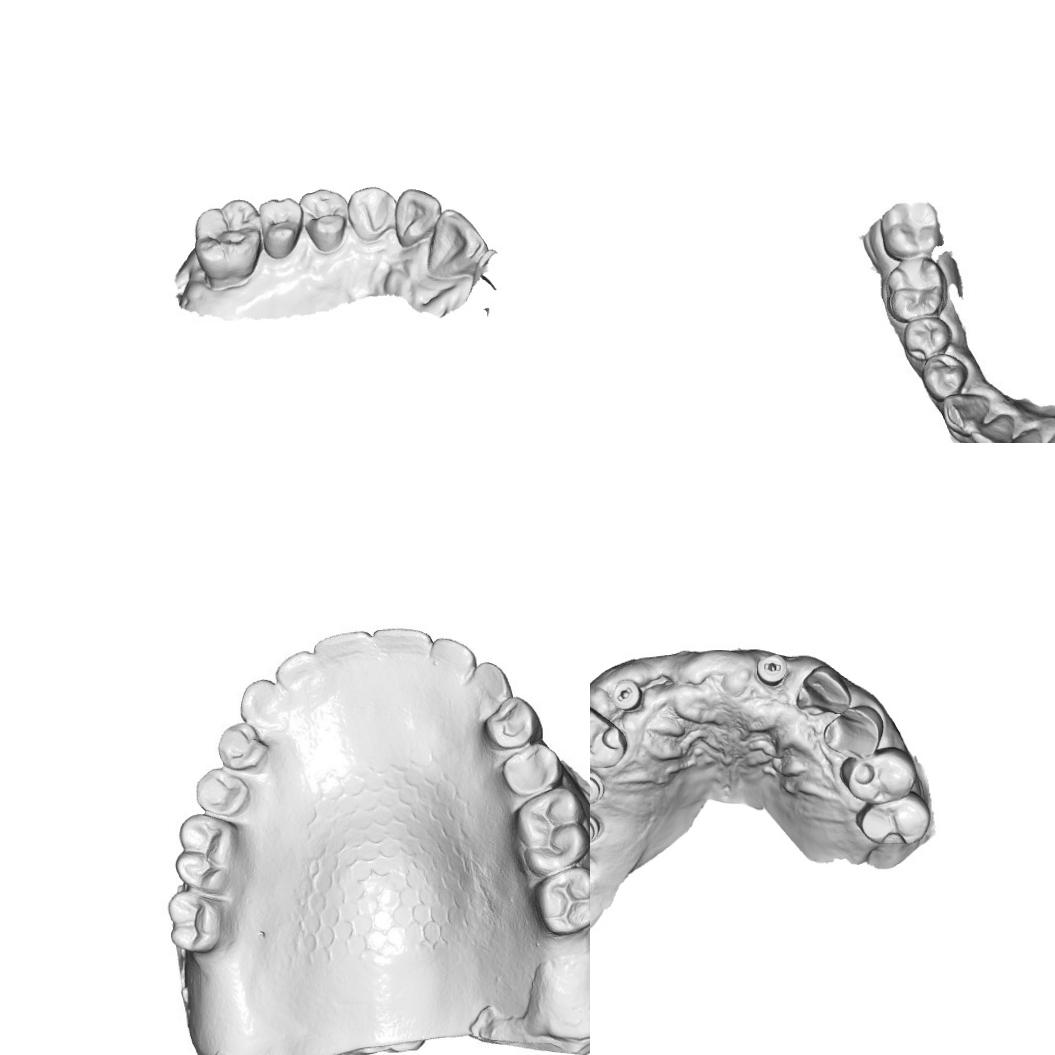canine: (794, 664, 852, 715), (346, 185, 396, 242), (939, 391, 988, 438), (243, 680, 283, 728), (468, 661, 508, 707)
implant_minus: (609, 678, 643, 712), (755, 653, 788, 687), (590, 766, 605, 805), (590, 809, 601, 846)
incisor: (423, 206, 489, 278), (392, 187, 442, 247), (373, 626, 429, 678), (314, 628, 372, 678), (423, 639, 478, 686), (278, 654, 327, 706), (975, 418, 1011, 443), (1005, 427, 1042, 443)
molar: (192, 198, 262, 287), (880, 253, 949, 324), (520, 792, 584, 865), (174, 817, 240, 884), (855, 788, 931, 846), (165, 891, 229, 948), (538, 868, 590, 929)
premolar: (839, 745, 917, 805), (822, 704, 884, 760), (298, 187, 346, 252), (501, 746, 558, 796), (260, 196, 303, 262), (900, 316, 957, 362), (590, 703, 628, 769), (490, 700, 536, 744), (926, 354, 968, 402), (196, 772, 244, 814), (220, 726, 263, 772)
